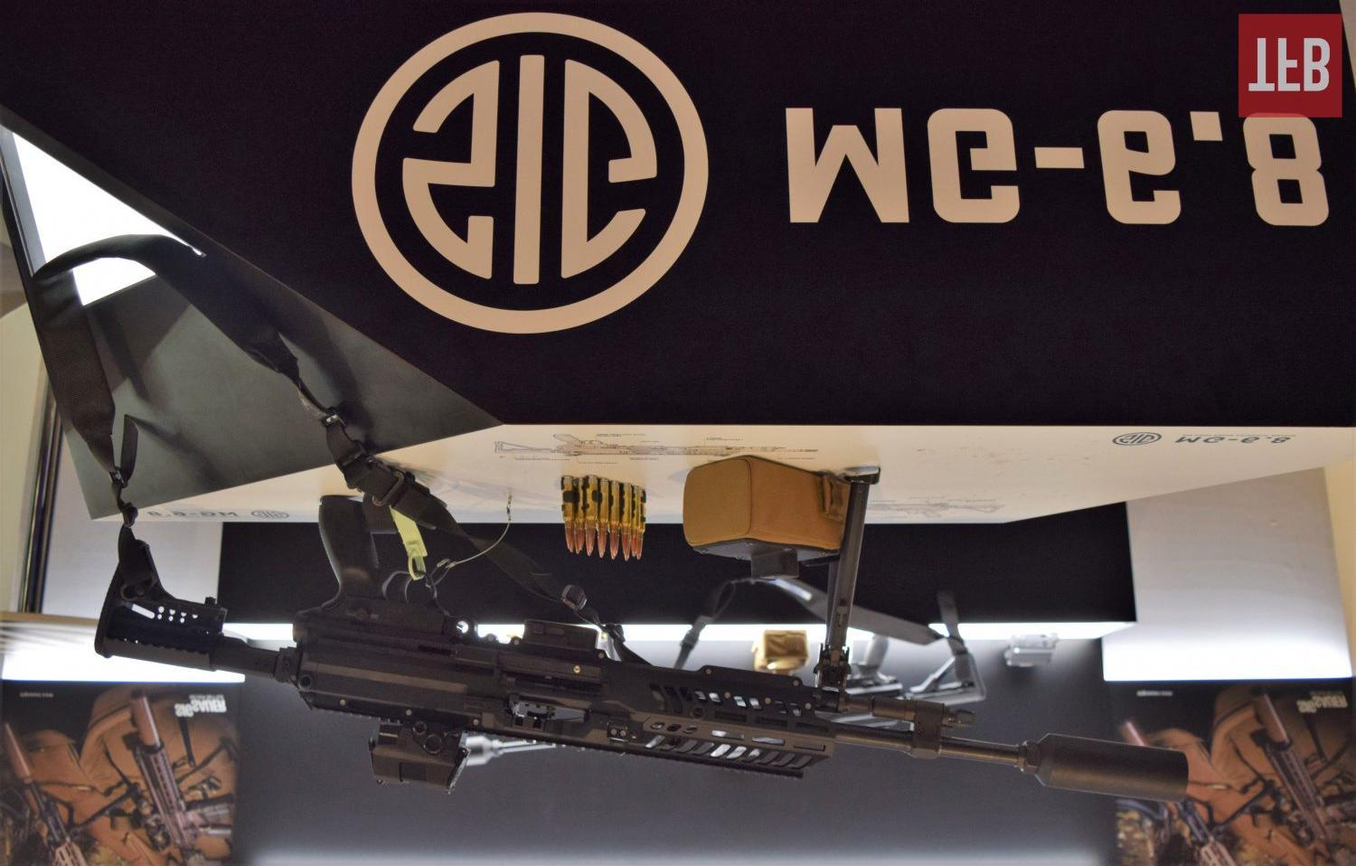larga: (91, 472, 1189, 804)
